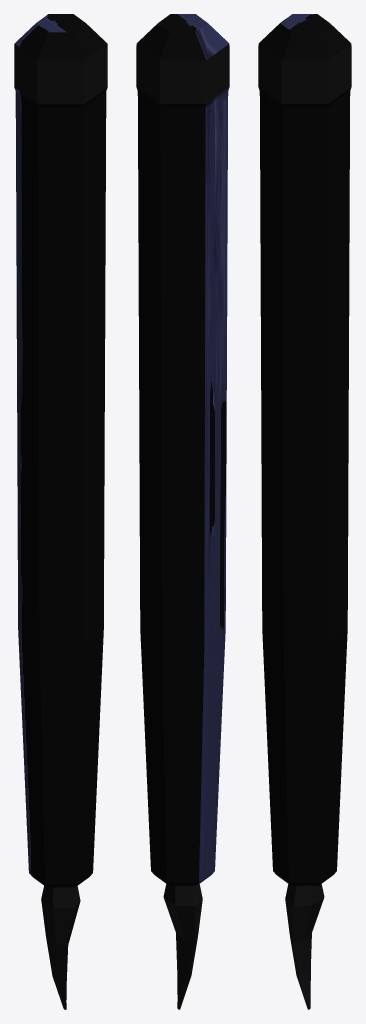
The model's file is obj_Pencil_007.obj.
3 views of the same model, side by side, from view 1: azimuth 30°, elevation 25°; view 2: azimuth 210°, elevation 25°; view 3: azimuth 330°, elevation 25° (orthographic).
Visible parts, largest first — view 1: obj_Pencil.007; view 2: obj_Pencil.007; view 3: obj_Pencil.007.
Part boxes in pixels (x1,y1,x2,y2): obj_Pencil.007: (14,14,107,1009); obj_Pencil.007: (136,14,229,1009); obj_Pencil.007: (258,14,351,1009).
Bounding box in the file's own units: 0.0153 × 0.2056 × 0.0177.
